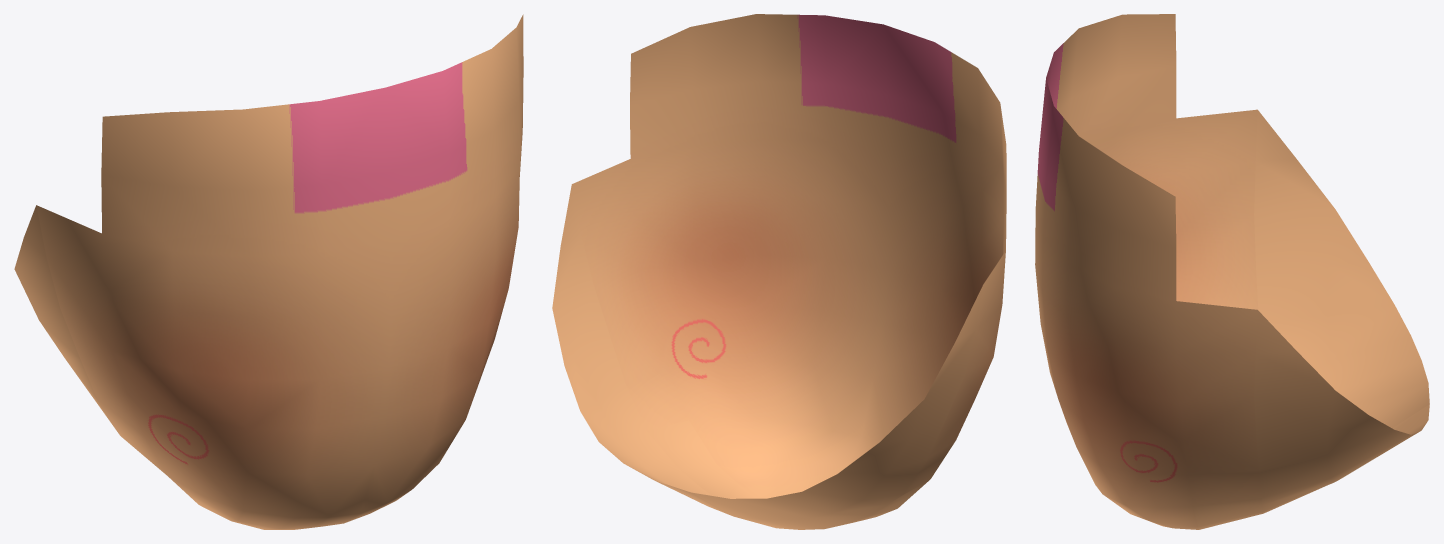
File: Faceline_2.glb
The picture shows the model from 3 angles, left to right: view 1: azimuth 30°, elevation 25°; view 2: azimuth 150°, elevation 25°; view 3: azimuth 270°, elevation 25°; orthographic projection. The views are drawn at different scales.
Visible parts, largest first — view 1: Head02; view 2: Head02; view 3: Head02.
Part boxes in pixels (bbox=[...]): Head02: bbox=[14, 14, 523, 529]; Head02: bbox=[552, 14, 1006, 529]; Head02: bbox=[1035, 14, 1429, 529].
Size of the model in its own units: 52.6 by 53.56 by 43.82.
Materials: 1 (1 with a texture image).
